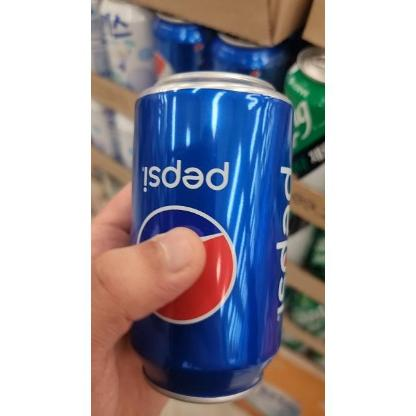Can: (132, 72, 291, 402)
